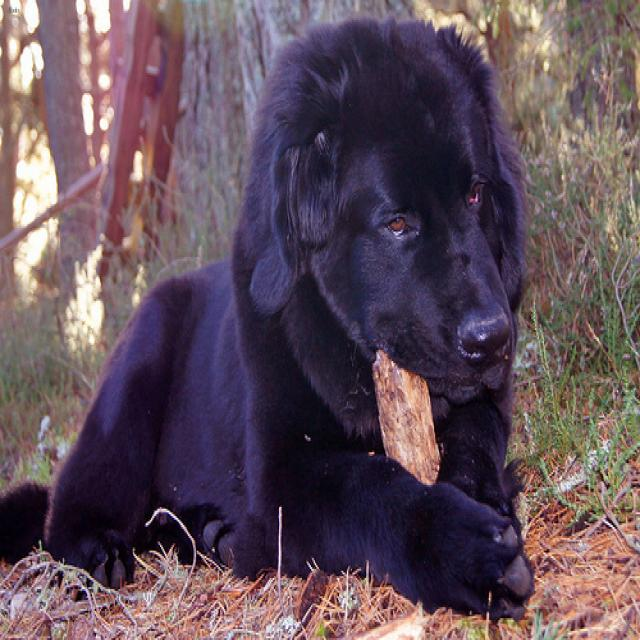dog-newfoundland: (1, 4, 541, 631)
